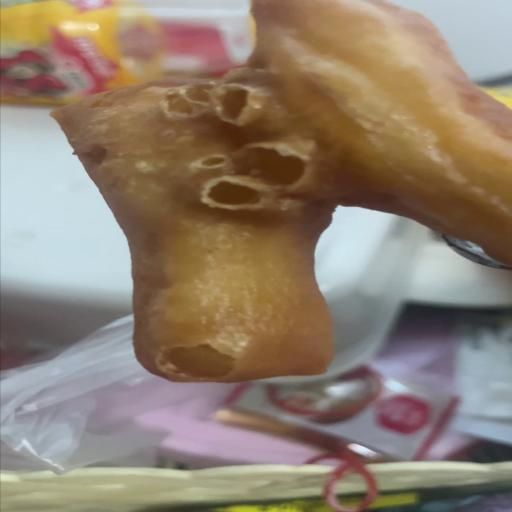street_burnt_defect: (50, 0, 510, 385)
